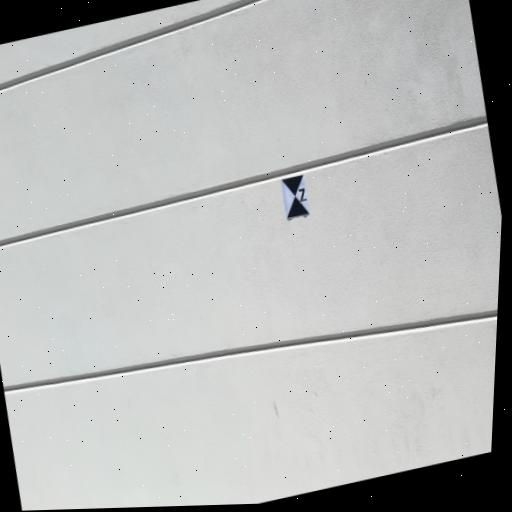target7: (280, 175, 312, 220)
